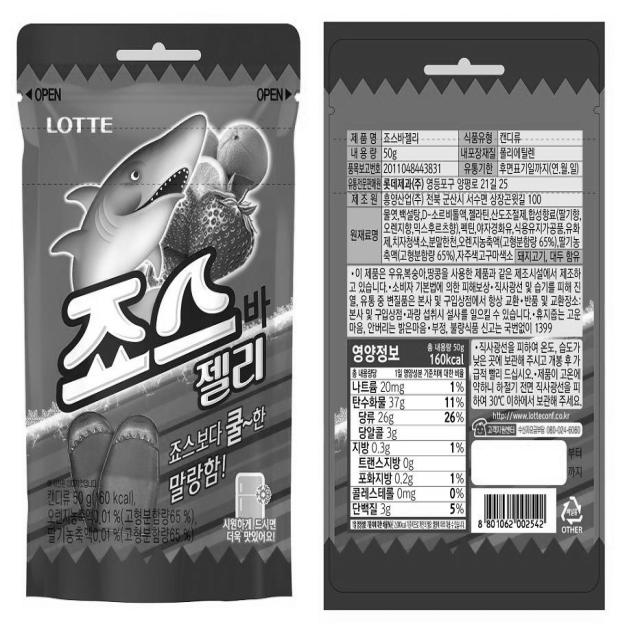Nutrition Label: (339, 340, 471, 549)
